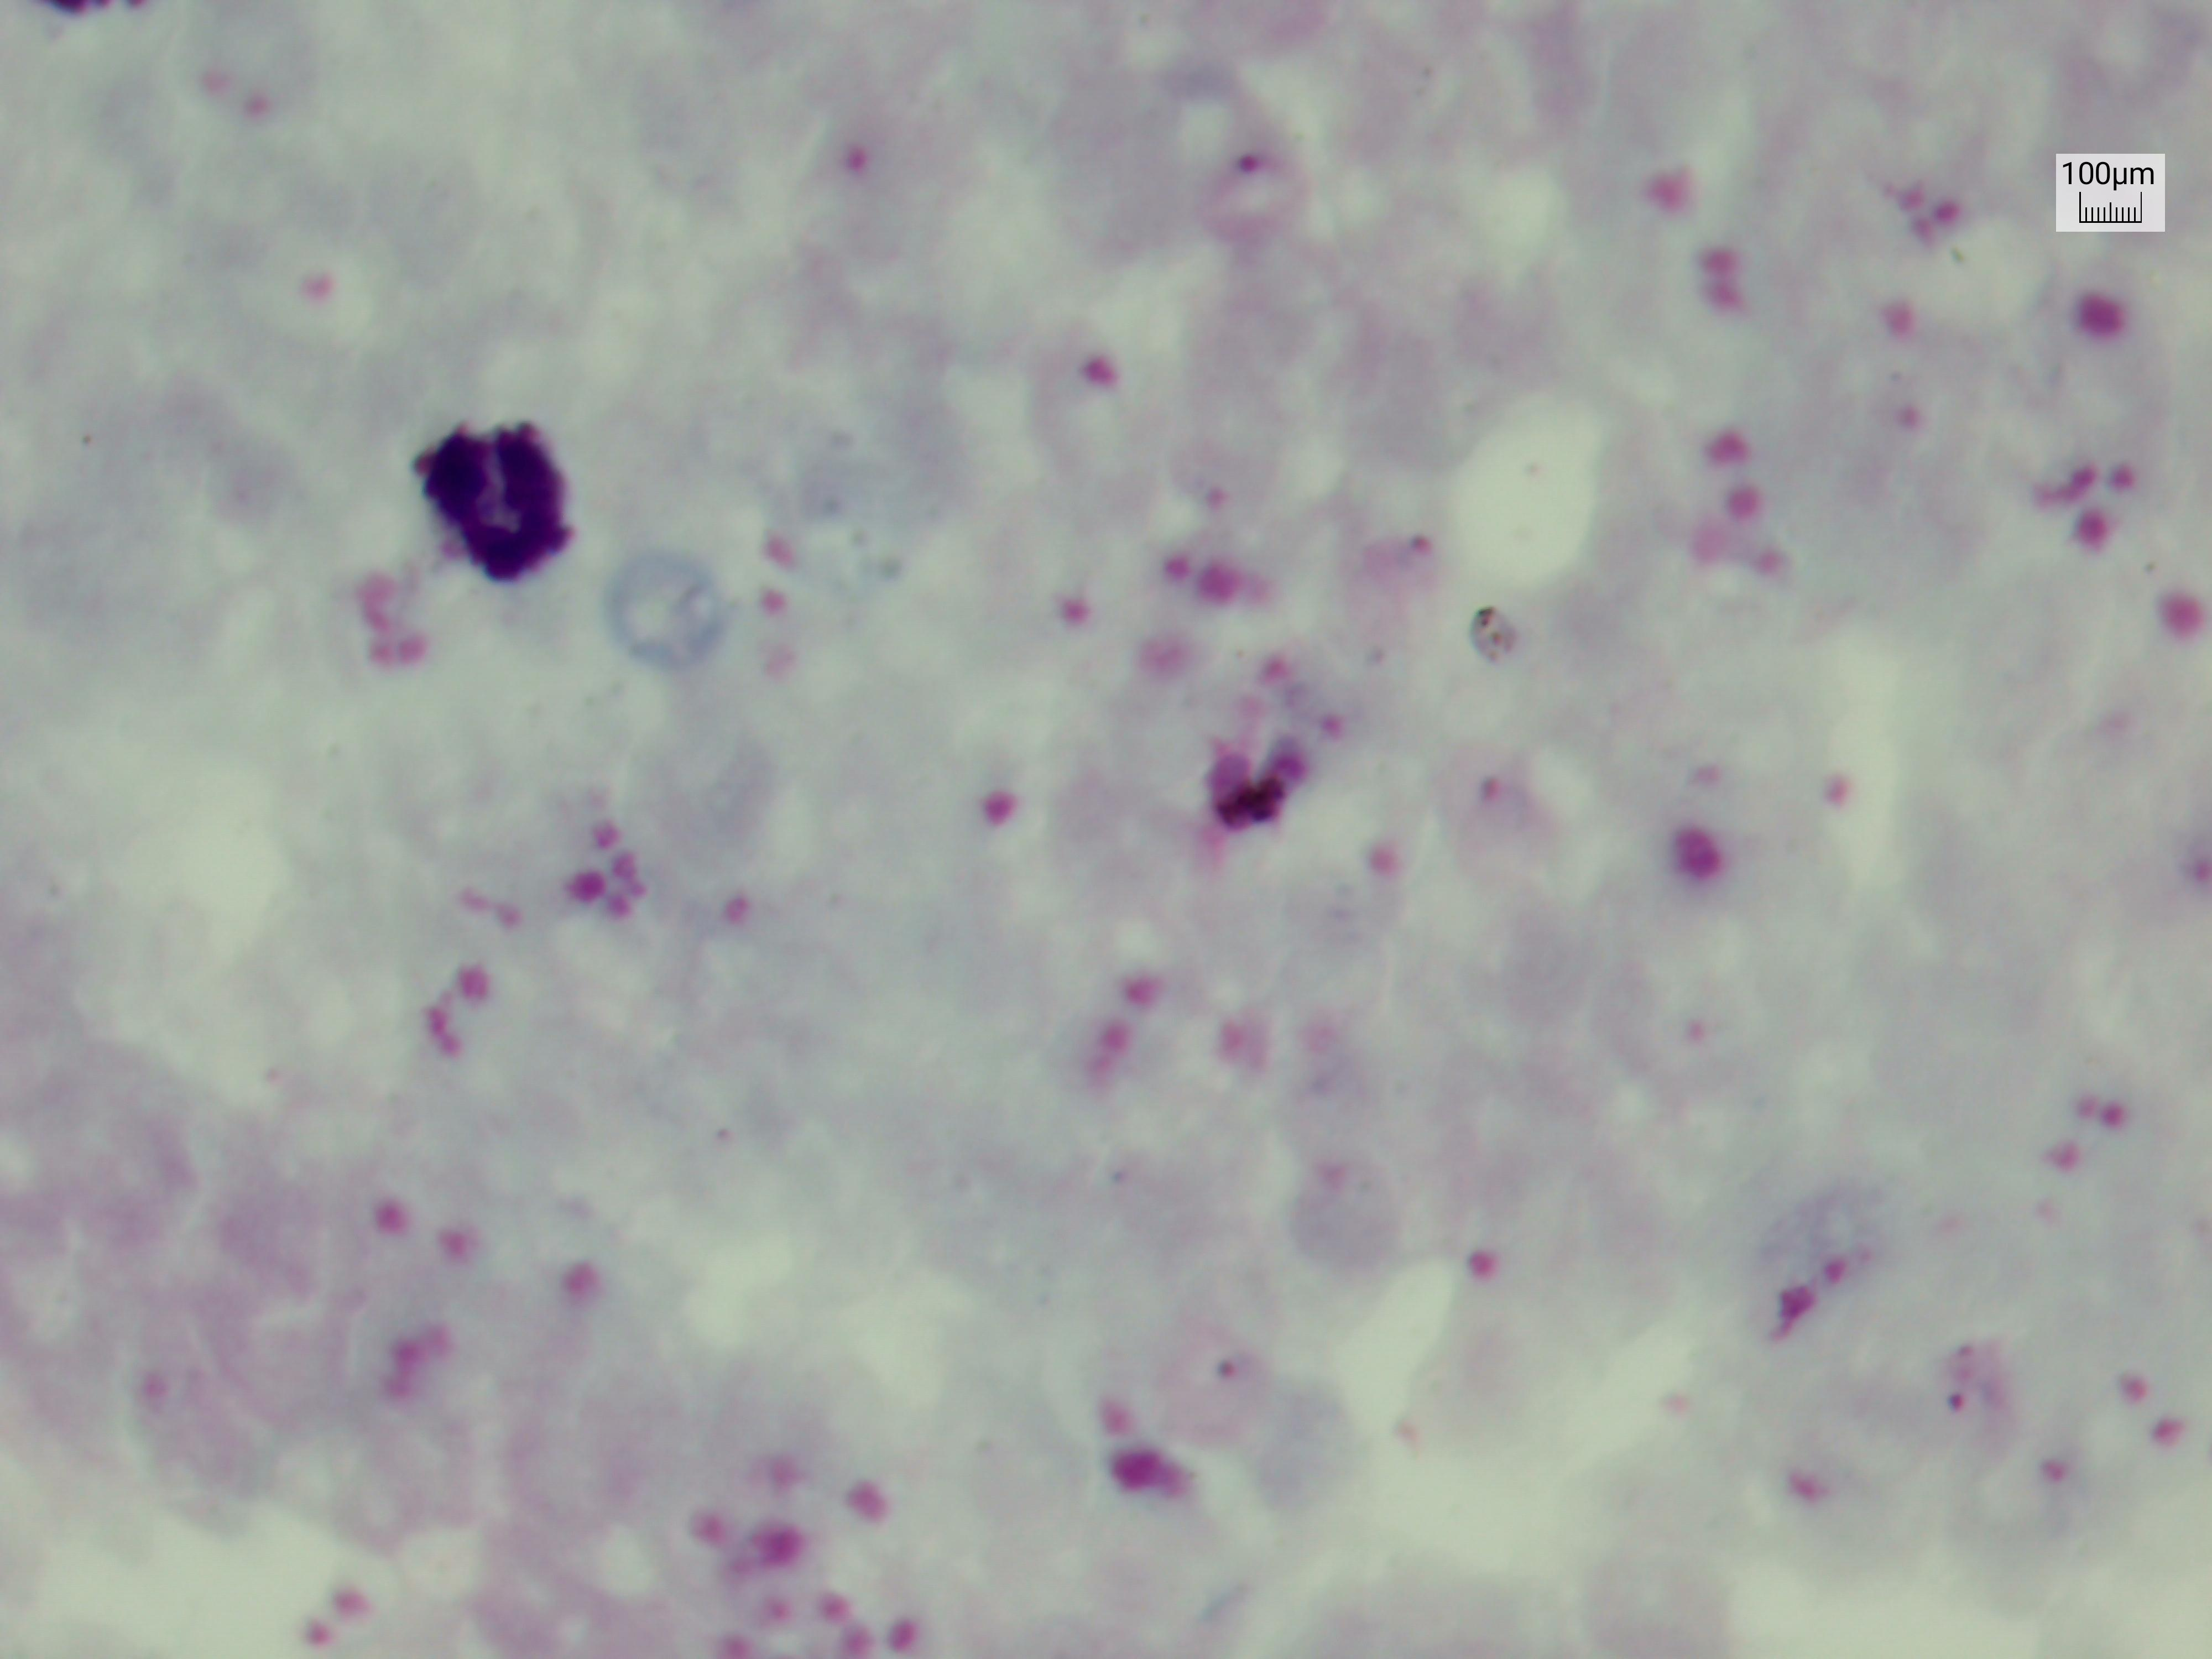p.falciparum: (1197, 692, 1313, 885), (1324, 514, 1451, 673), (1162, 1309, 1287, 1452), (1183, 132, 1325, 239), (1451, 748, 1550, 871), (1925, 1342, 2006, 1448)
